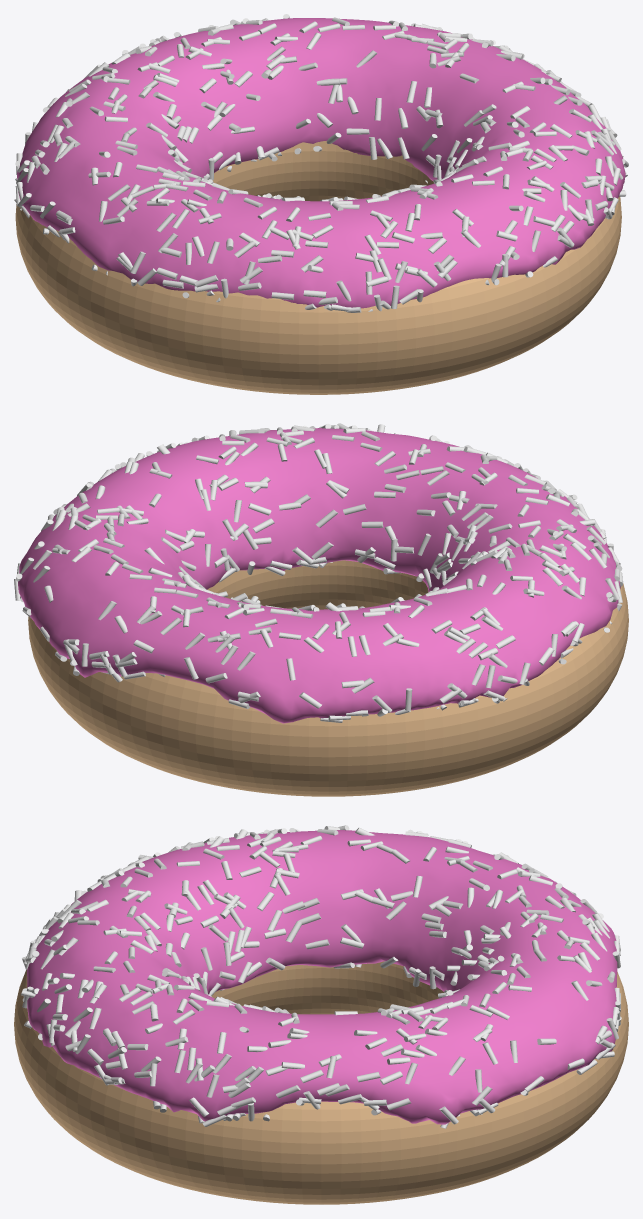
Rendered from Donut.fbx.
The picture shows the model from 3 angles, top to bottom: view 1: azimuth 30°, elevation 25°; view 2: azimuth 150°, elevation 25°; view 3: azimuth 270°, elevation 25°; orthographic projection. The views are drawn at different scales.
Visible parts, largest first — view 1: Cube, Torus; view 2: Cube, Torus; view 3: Cube, Torus.
Boxes of the visible parts, x1=… form: Cube: x1=17, y1=18, x2=625, y2=308; Torus: x1=15, y1=141, x2=621, y2=394; Cube: x1=18, y1=428, x2=620, y2=723; Torus: x1=28, y1=560, x2=628, y2=796; Cube: x1=27, y1=830, x2=617, y2=1124; Torus: x1=14, y1=961, x2=628, y2=1204.
Size of the model in its own units: 204 by 65.85 by 204.
